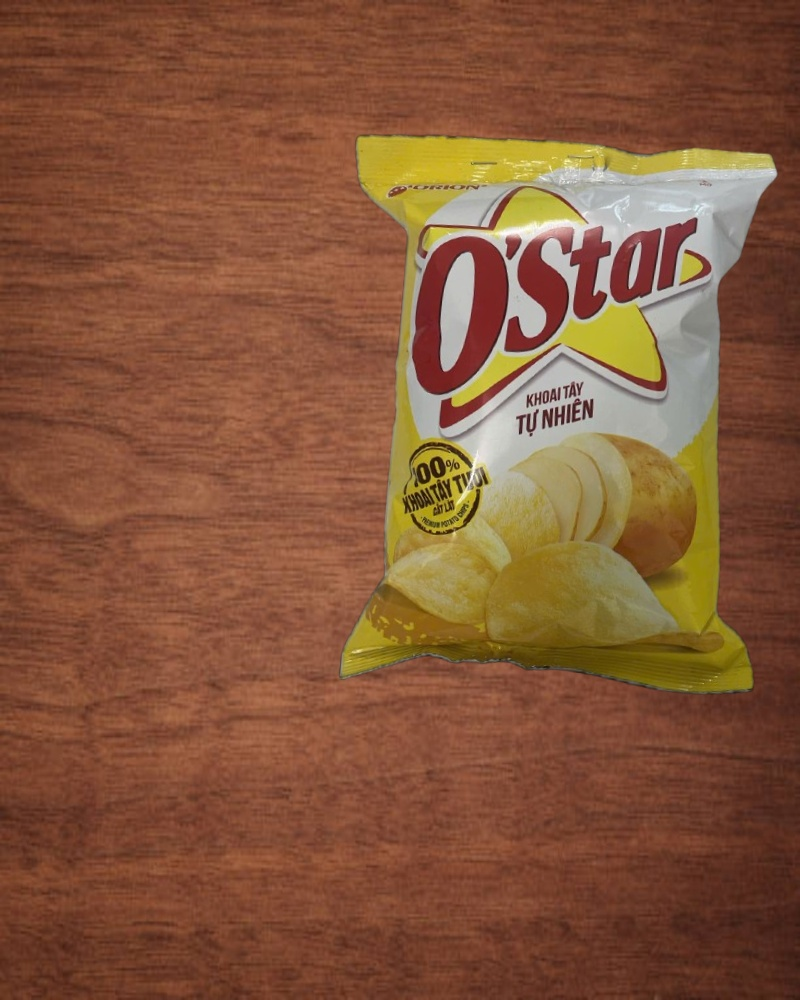O'star: (311, 118, 800, 715)
